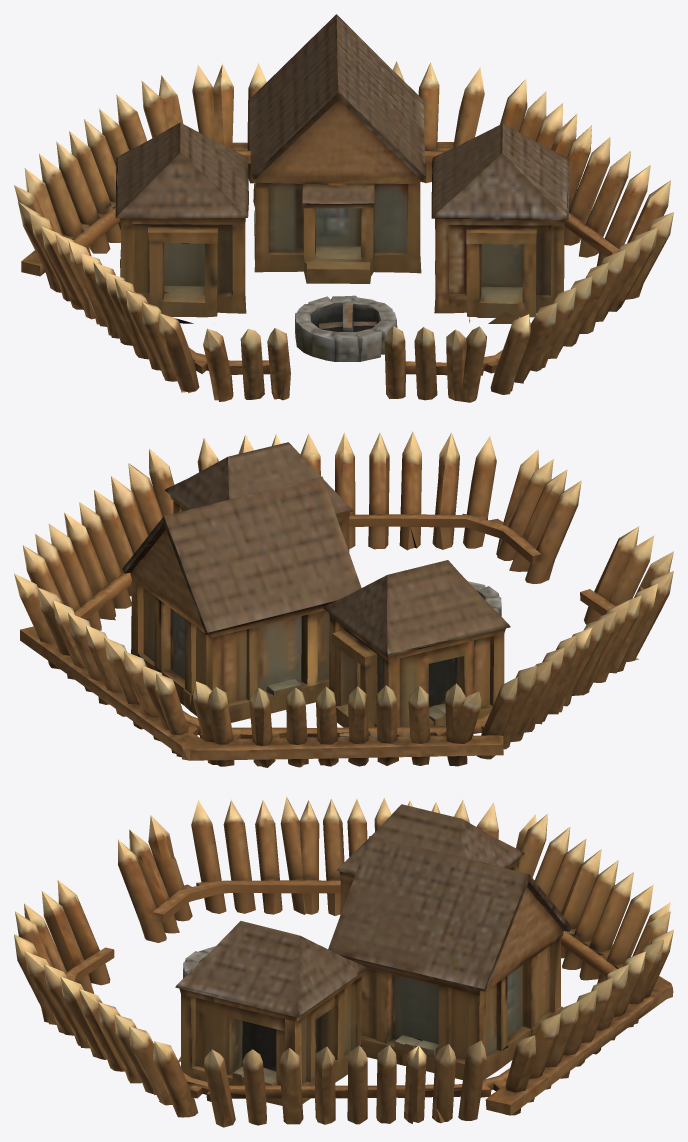
File: camp.glb
3 views of the same model, one above another, from view 1: azimuth 30°, elevation 25°; view 2: azimuth 150°, elevation 25°; view 3: azimuth 270°, elevation 25° (orthographic).
Parts seen in each view (by area): view 1: architecture; view 2: architecture; view 3: architecture.
Part boxes in pixels (x1=…): architecture: x1=14, y1=14, x2=673, y2=402; architecture: x1=14, y1=431, x2=673, y2=767; architecture: x1=14, y1=796, x2=673, y2=1127.
Bounding box in the file's own units: 1.53 × 0.5201 × 1.7.
Materials: 1 (1 with a texture image).
